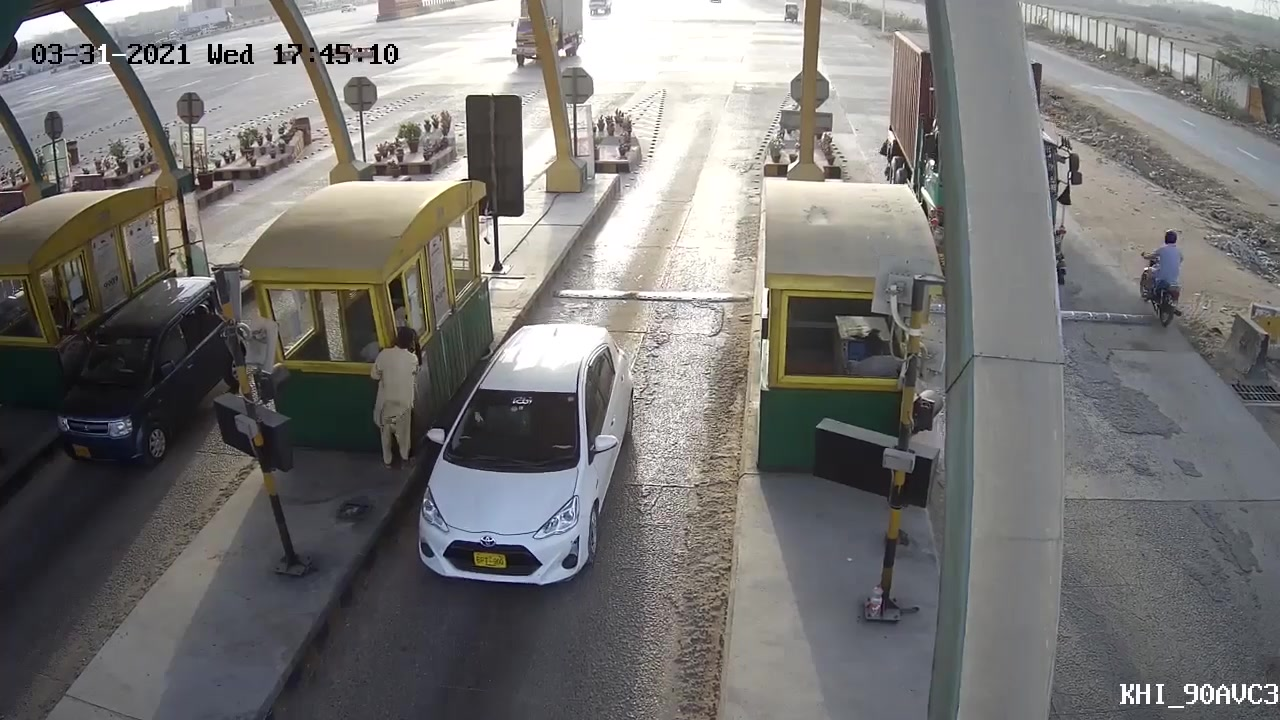F1: (422, 314, 634, 591)
